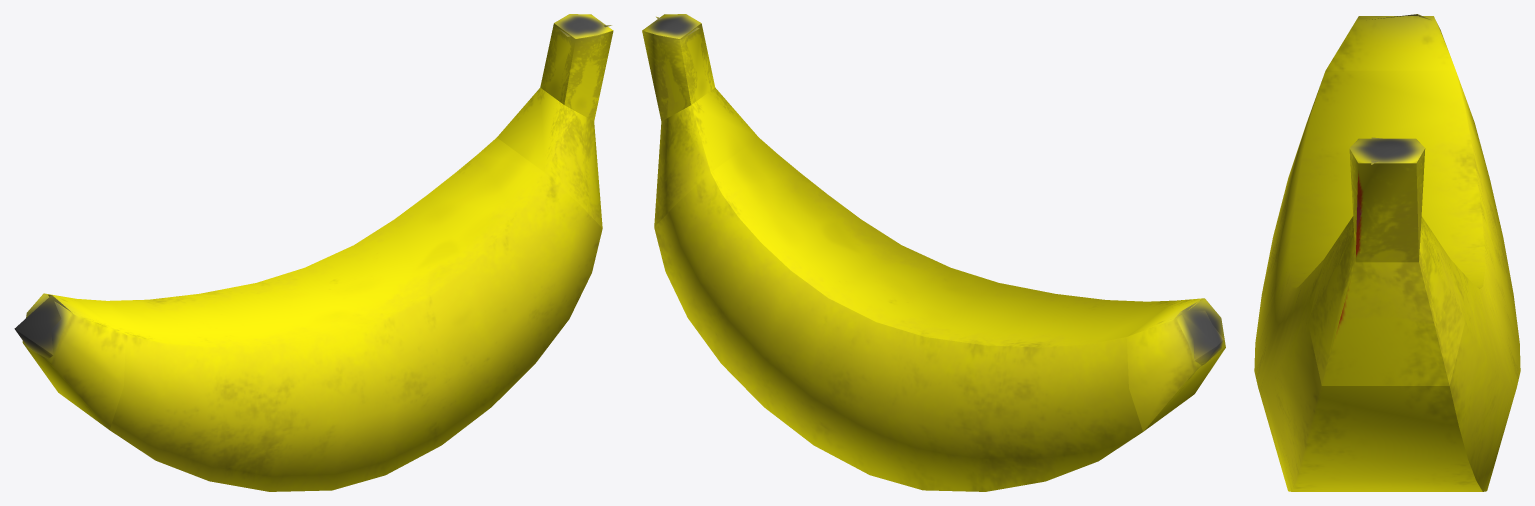
File: Banana.fbx
The picture shows the model from 3 angles, left to right: view 1: azimuth 30°, elevation 25°; view 2: azimuth 150°, elevation 25°; view 3: azimuth 270°, elevation 25°; orthographic projection. The views are drawn at different scales.
Parts seen in each view (by area): view 1: Banana; view 2: Banana; view 3: Banana.
Boxes of the visible parts, bbox=[...] form: Banana: bbox=[14, 14, 613, 491]; Banana: bbox=[642, 14, 1225, 491]; Banana: bbox=[1254, 14, 1520, 491].
Size of the model in its own units: 3.56 by 2.15 by 1.08.
